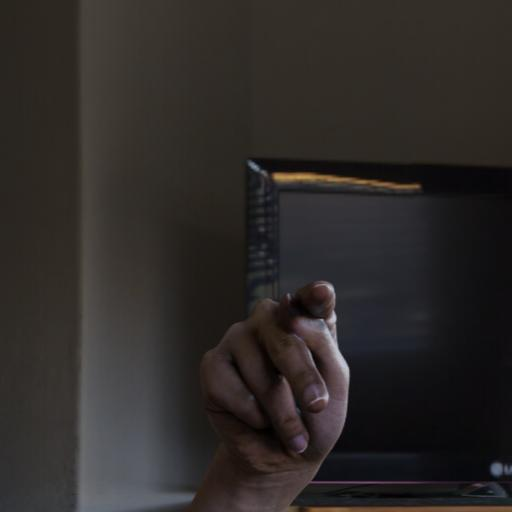P: (161, 246, 370, 492)
